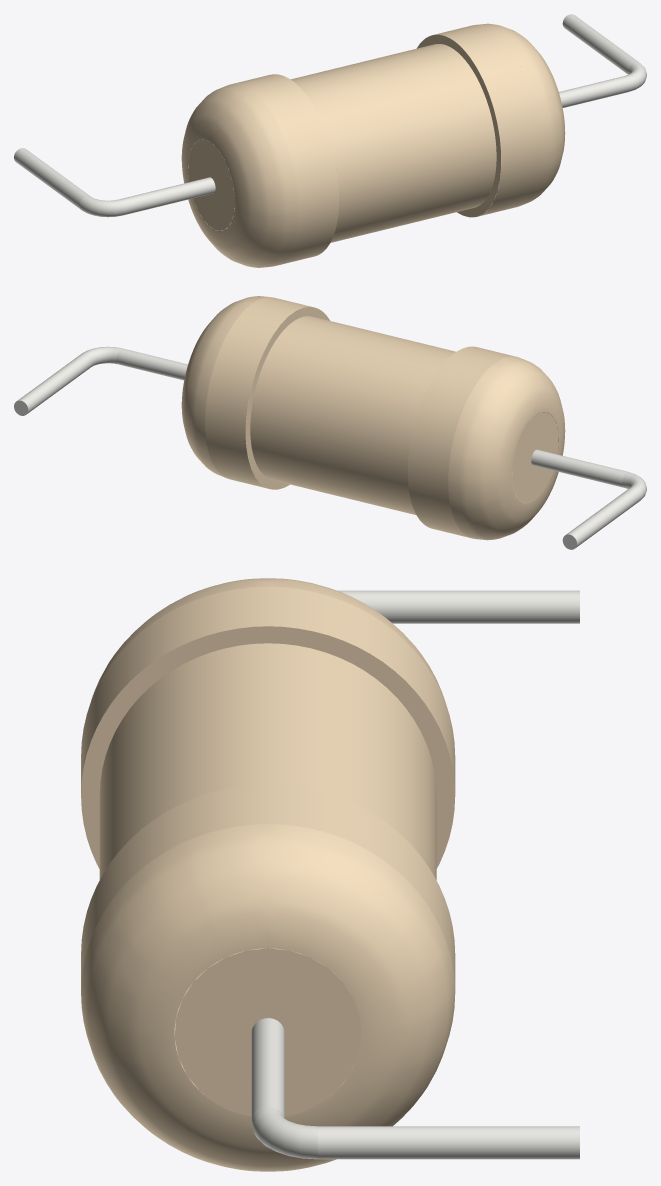
File: R_Axial_DIN0918_L18.0mm_D9.0mm_P30.48mm_Horizontal.glb
The picture shows the model from 3 angles, top to bottom: view 1: azimuth 30°, elevation 25°; view 2: azimuth 150°, elevation 25°; view 3: azimuth 270°, elevation 25°; orthographic projection. The views are drawn at different scales.
Visible parts, largest first — view 1: Shape_IndexedFaceSet.004, Shape_IndexedFaceSet.001, Shape_IndexedFaceSet.008, Shape_IndexedFaceSet, Shape_IndexedFaceSet.010, Shape_IndexedFaceSet.003, Shape_IndexedFaceSet.005, Shape_IndexedFaceSet.006, Shape_IndexedFaceSet.009, Shape_IndexedFaceSet.015, Shape_IndexedFaceSet.013, Shape_IndexedFaceSet.007 (+1 smaller); view 2: Shape_IndexedFaceSet.004, Shape_IndexedFaceSet.001, Shape_IndexedFaceSet.008, Shape_IndexedFaceSet, Shape_IndexedFaceSet.010, Shape_IndexedFaceSet.003, Shape_IndexedFaceSet.005, Shape_IndexedFaceSet.006, Shape_IndexedFaceSet.015, Shape_IndexedFaceSet.009, Shape_IndexedFaceSet.013, Shape_IndexedFaceSet.014; view 3: Shape_IndexedFaceSet.010, Shape_IndexedFaceSet.004, Shape_IndexedFaceSet.012, Shape_IndexedFaceSet.008, Shape_IndexedFaceSet, Shape_IndexedFaceSet.002, Shape_IndexedFaceSet.015, Shape_IndexedFaceSet.009, Shape_IndexedFaceSet.013, Shape_IndexedFaceSet.001, Shape_IndexedFaceSet.014.
Part boxes in pixels (x1=…): Shape_IndexedFaceSet.004: x1=290, y1=44, x2=496, y2=242; Shape_IndexedFaceSet.001: x1=181, y1=84, x2=298, y2=267; Shape_IndexedFaceSet.008: x1=417, y1=24, x2=541, y2=217; Shape_IndexedFaceSet: x1=208, y1=74, x2=339, y2=265; Shape_IndexedFaceSet.010: x1=457, y1=23, x2=565, y2=204; Shape_IndexedFaceSet.003: x1=188, y1=140, x2=234, y2=230; Shape_IndexedFaceSet.005: x1=120, y1=177, x2=215, y2=215; Shape_IndexedFaceSet.006: x1=417, y1=34, x2=500, y2=217; Shape_IndexedFaceSet.009: x1=14, y1=148, x2=90, y2=209; Shape_IndexedFaceSet.015: x1=562, y1=14, x2=638, y2=74; Shape_IndexedFaceSet.013: x1=559, y1=76, x2=630, y2=107; Shape_IndexedFaceSet.007: x1=79, y1=196, x2=124, y2=217; Shape_IndexedFaceSet.004: x1=250, y1=316, x2=455, y2=515; Shape_IndexedFaceSet.001: x1=448, y1=356, x2=565, y2=540; Shape_IndexedFaceSet.008: x1=205, y1=297, x2=329, y2=489; Shape_IndexedFaceSet: x1=407, y1=346, x2=538, y2=537; Shape_IndexedFaceSet.010: x1=181, y1=296, x2=290, y2=477; Shape_IndexedFaceSet.003: x1=512, y1=412, x2=558, y2=503; Shape_IndexedFaceSet.005: x1=531, y1=449, x2=626, y2=487; Shape_IndexedFaceSet.006: x1=245, y1=307, x2=329, y2=489; Shape_IndexedFaceSet.015: x1=17, y1=352, x2=93, y2=413; Shape_IndexedFaceSet.009: x1=566, y1=486, x2=642, y2=547; Shape_IndexedFaceSet.013: x1=116, y1=348, x2=187, y2=380; Shape_IndexedFaceSet.014: x1=83, y1=346, x2=121, y2=366; Shape_IndexedFaceSet.010: x1=81, y1=824, x2=455, y2=1171; Shape_IndexedFaceSet.004: x1=99, y1=643, x2=436, y2=1094; Shape_IndexedFaceSet.012: x1=174, y1=948, x2=361, y2=1115; Shape_IndexedFaceSet.008: x1=81, y1=784, x2=455, y2=991; Shape_IndexedFaceSet: x1=81, y1=586, x2=455, y2=794; Shape_IndexedFaceSet.002: x1=81, y1=626, x2=455, y2=868; Shape_IndexedFaceSet.015: x1=318, y1=1126, x2=579, y2=1159; Shape_IndexedFaceSet.009: x1=338, y1=590, x2=579, y2=623; Shape_IndexedFaceSet.013: x1=251, y1=1018, x2=284, y2=1118; Shape_IndexedFaceSet.001: x1=91, y1=578, x2=446, y2=704; Shape_IndexedFaceSet.014: x1=251, y1=1106, x2=317, y2=1159.
Size of the model in its own units: 12.31 by 3.54 by 4.72.
